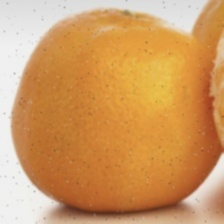orange: (57, 13, 197, 201)
